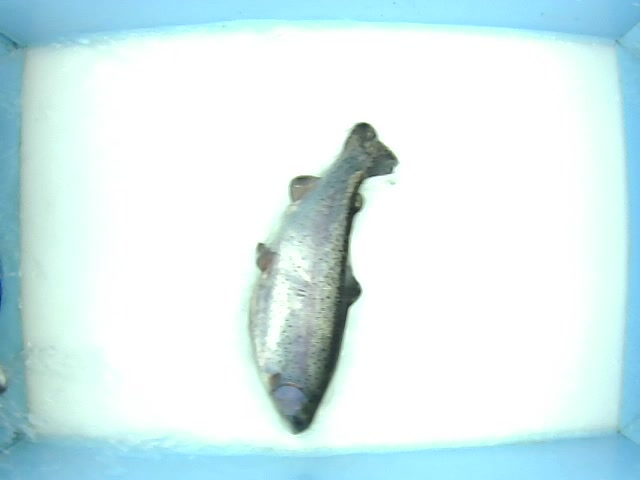fish: (248, 118, 400, 434)
